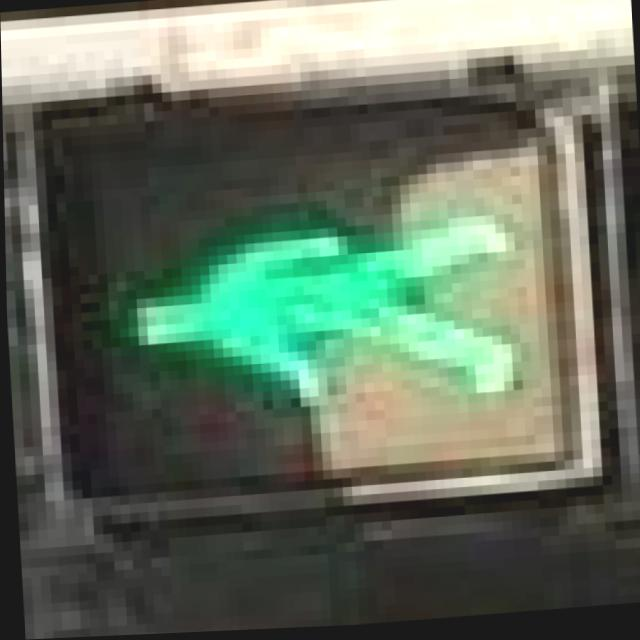green_light: (94, 207, 531, 441)
